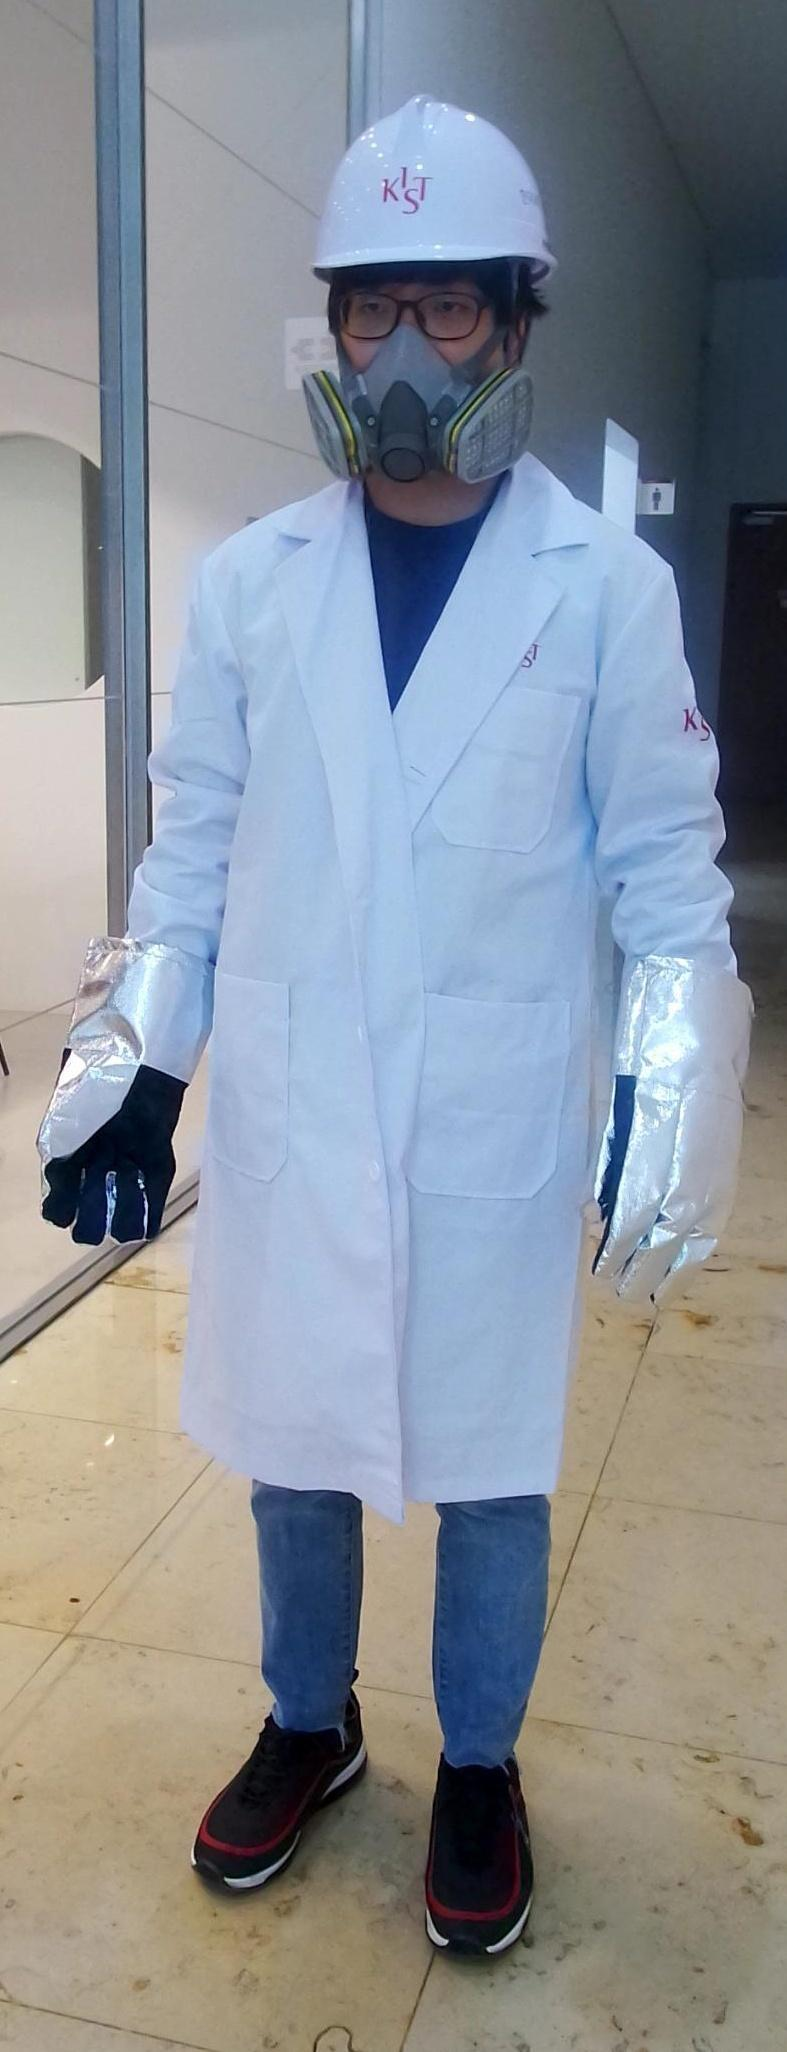lab_coat: (156, 526, 626, 1474)
